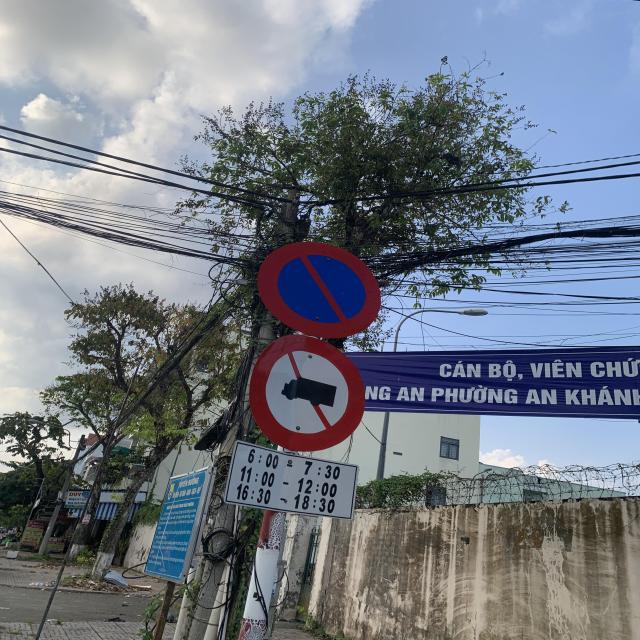Cam_Dau_Xe: (255, 239, 383, 337)
Cam_Xe_Tai: (248, 332, 367, 452)
